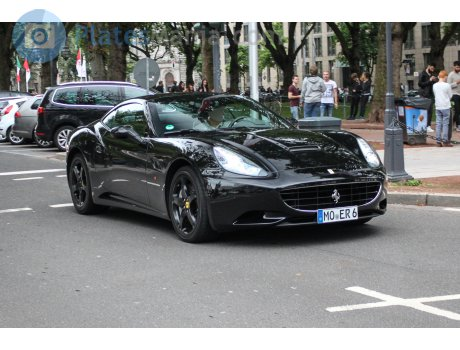License Plates: (322, 207, 358, 216)
